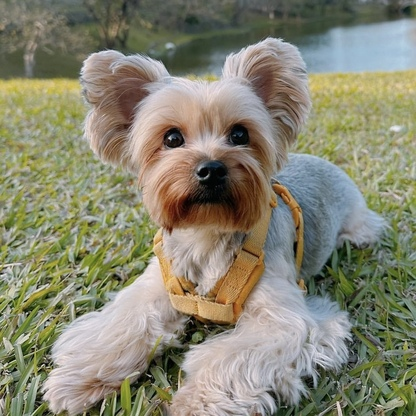yokshine: (40, 36, 386, 410)
